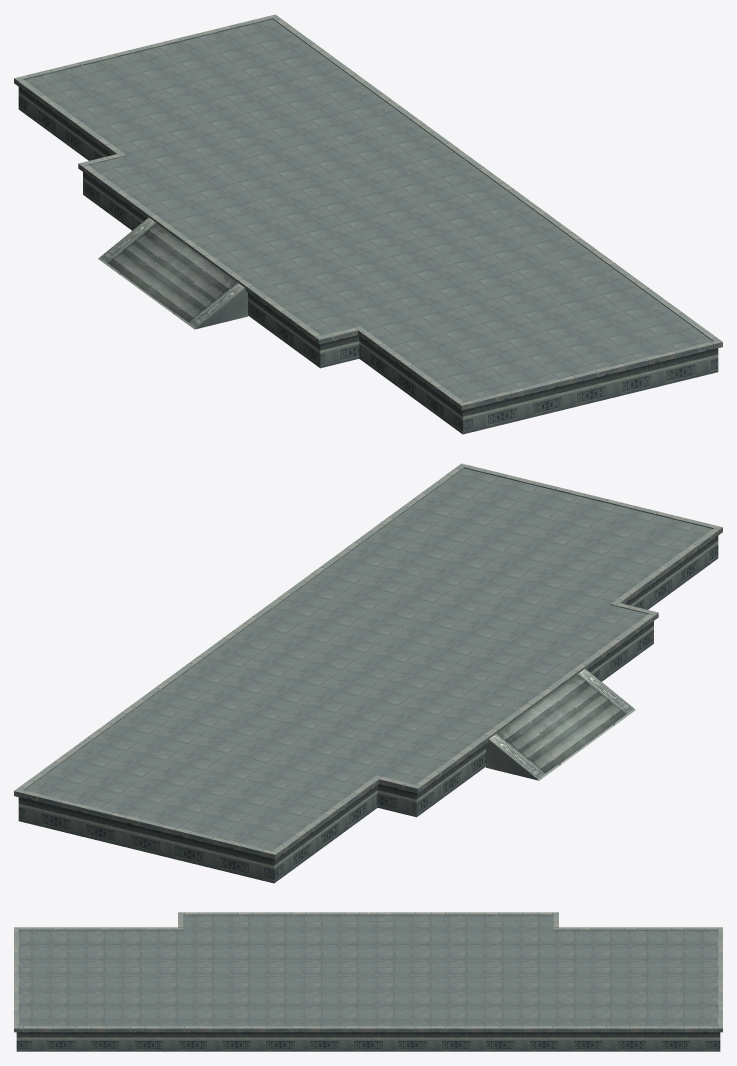
File: szc_building_9a_dizuo.FBX
3 renders of one model, top to bottom at view 1: azimuth 30°, elevation 25°; view 2: azimuth 150°, elevation 25°; view 3: azimuth 270°, elevation 25°, orthographic. The views are drawn at different scales.
Visible parts, largest first — view 1: szc_building_9a_dizuo; view 2: szc_building_9a_dizuo; view 3: szc_building_9a_dizuo.
Boxes of the visible parts, left/top/right/bottom form: szc_building_9a_dizuo: left=14, top=14, right=722, bottom=434; szc_building_9a_dizuo: left=14, top=463, right=722, bottom=883; szc_building_9a_dizuo: left=14, top=912, right=722, bottom=1051.
Bounding box in the file's own units: 960 × 81.65 × 2117.
